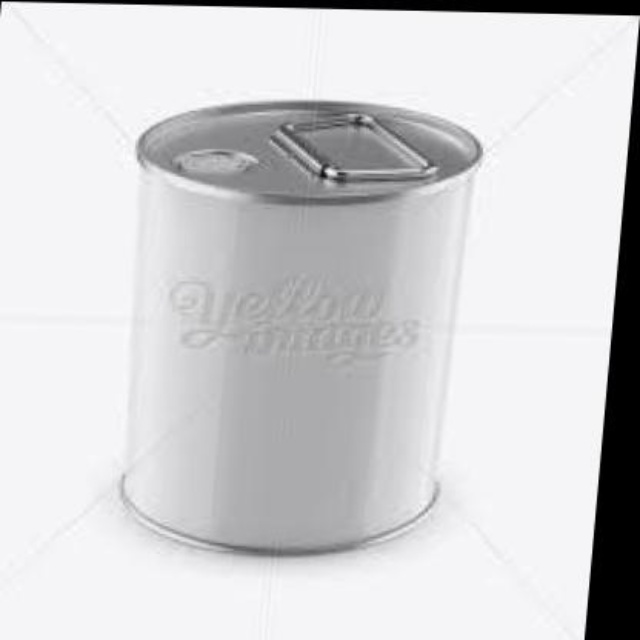trash: (123, 102, 480, 551)
